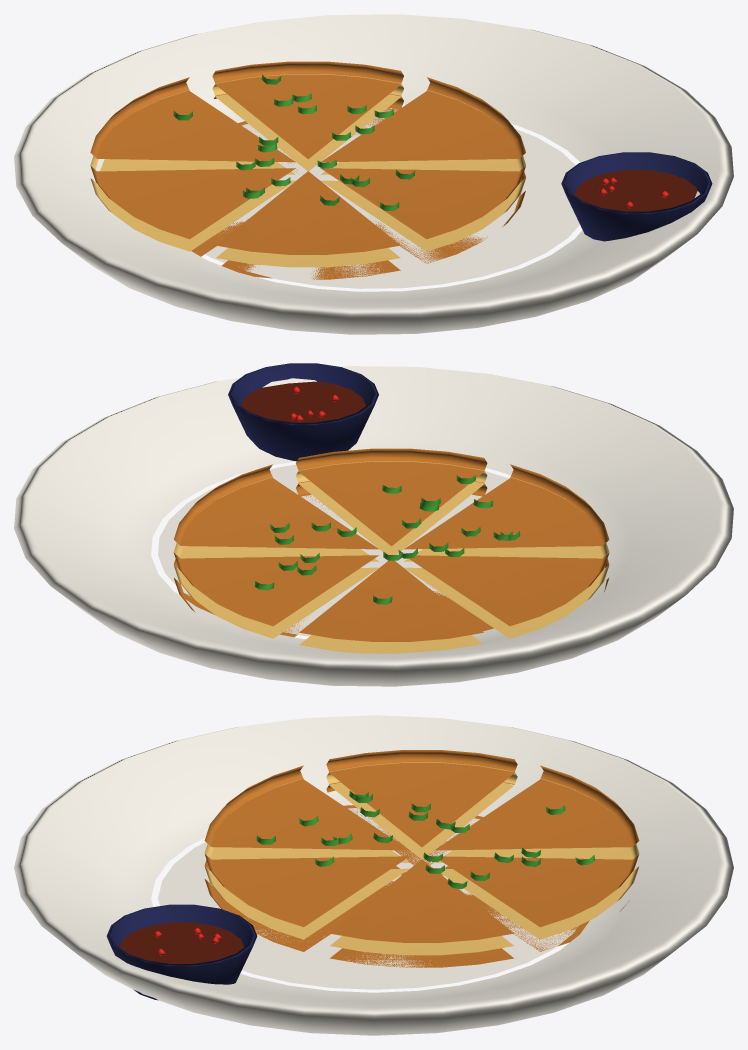
3 views of the same model, one above another, from view 1: azimuth 30°, elevation 25°; view 2: azimuth 150°, elevation 25°; view 3: azimuth 270°, elevation 25° (orthographic).
Visible parts, largest first — view 1: plate, pancake (×14), plate_well, sauce_dish, sauce; view 2: plate, pancake (×12), sauce_dish, plate_well, sauce; view 3: plate, pancake (×16), plate_well, sauce_dish, sauce.
Part boxes in pixels (bbox=[...]): plate: bbox=[14, 14, 733, 334]; pancake (×14): bbox=[90, 61, 525, 279]; plate_well: bbox=[205, 108, 579, 288]; sauce_dish: bbox=[561, 152, 712, 241]; sauce: bbox=[574, 170, 697, 211]; plate: bbox=[14, 366, 733, 686]; pancake (×12): bbox=[174, 448, 609, 653]; sauce_dish: bbox=[228, 363, 378, 461]; plate_well: bbox=[158, 464, 509, 636]; sauce: bbox=[241, 381, 365, 422]; plate: bbox=[14, 715, 733, 1035]; pancake (×16): bbox=[204, 750, 639, 967]; plate_well: bbox=[158, 808, 578, 989]; sauce_dish: bbox=[106, 904, 257, 1000]; sauce: bbox=[119, 922, 244, 963].
Bounding box in the file's own units: 0.21 × 0.0228 × 0.21.
